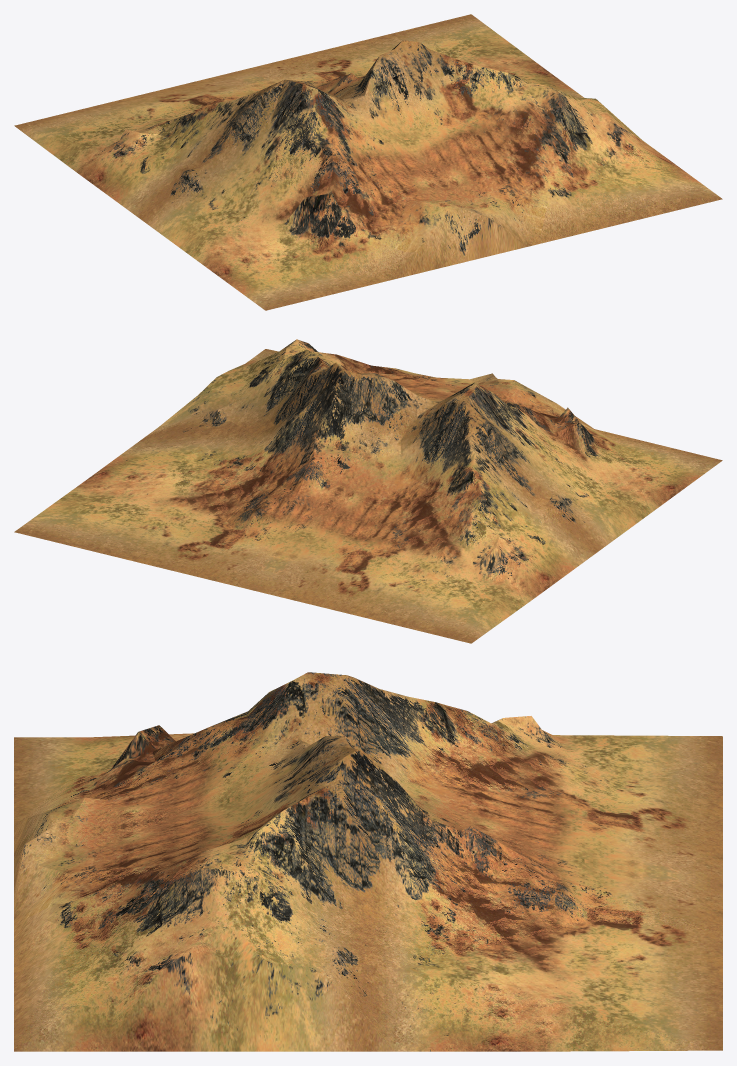
Rendered from Desert_A.FBX.
3 views of the same model, one above another, from view 1: azimuth 30°, elevation 25°; view 2: azimuth 150°, elevation 25°; view 3: azimuth 270°, elevation 25° (orthographic). The views are drawn at different scales.
Visible parts, largest first — view 1: Desert_A; view 2: Desert_A; view 3: Desert_A.
Boxes of the visible parts, x1,y1,x2,y2 form: Desert_A: [14, 14, 722, 310]; Desert_A: [14, 339, 722, 643]; Desert_A: [14, 672, 722, 1051].
Size of the model in its own units: 104948 by 25827 by 100000.
